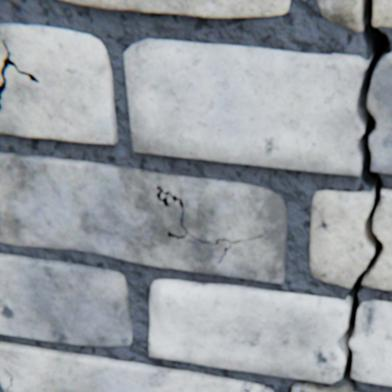brick: (0, 153, 287, 283), (0, 25, 118, 145), (0, 342, 273, 391), (0, 254, 133, 346), (55, 0, 290, 19), (291, 383, 348, 391)
broken_brick: (125, 40, 368, 176), (150, 280, 347, 383), (309, 191, 372, 288), (349, 300, 391, 385), (362, 190, 391, 290), (367, 54, 391, 174), (317, 0, 360, 32), (372, 0, 391, 28)
crack: (287, 0, 391, 391), (0, 40, 40, 111), (157, 186, 188, 239), (190, 234, 245, 263), (4, 374, 13, 391), (247, 236, 263, 240)
